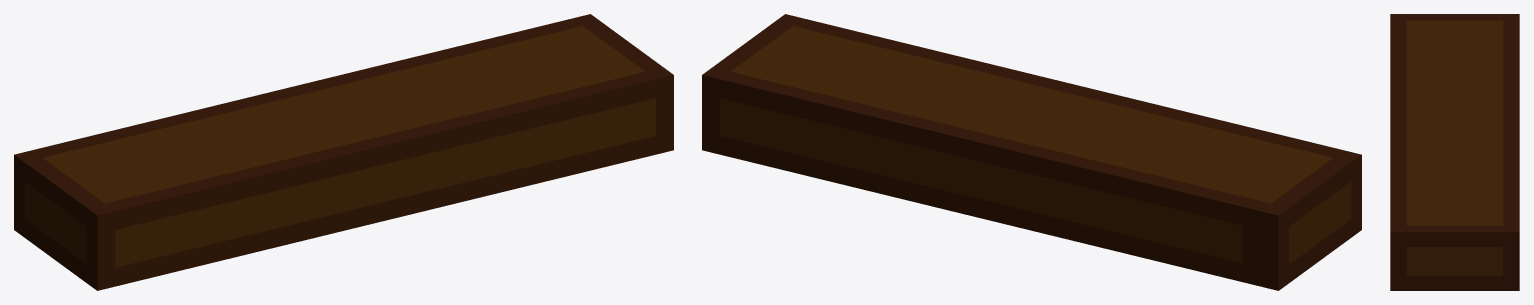
The model's file is test_plank_main.obj.
3 views of the same model, side by side, from view 1: azimuth 30°, elevation 25°; view 2: azimuth 150°, elevation 25°; view 3: azimuth 270°, elevation 25° (orthographic). The views are drawn at different scales.
Bounding box in the file's own units: 3.2 × 0.4 × 0.8.
